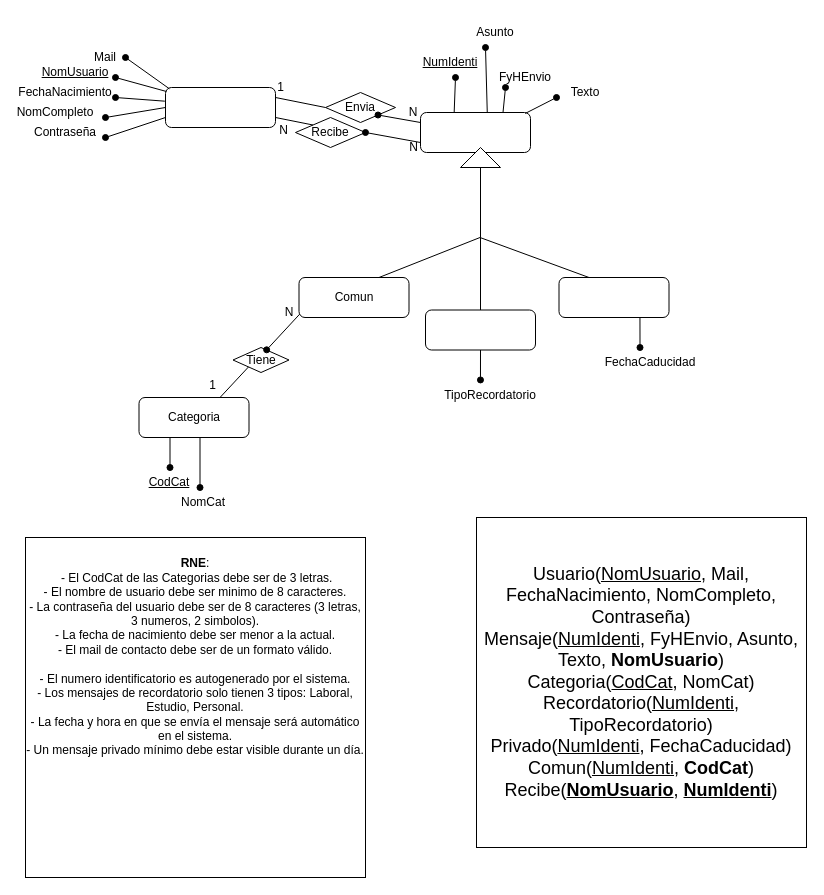
The diagram is 824 pixels wide and 895 high, and some of its shapes have lost their labels. The shapes that lost their labels are listed below. From the top down, each one's centre as x and y in pixels, then its label:
At pixel 220 107: "Usuario".
At pixel 475 132: "Mensaje".
At pixel 613 297: "Privado".
At pixel 480 329: "Recordatorio".
